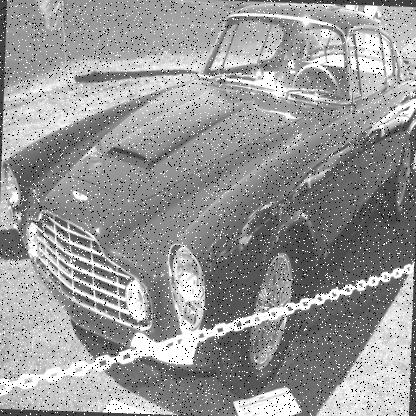Car: (1, 7, 415, 389)
